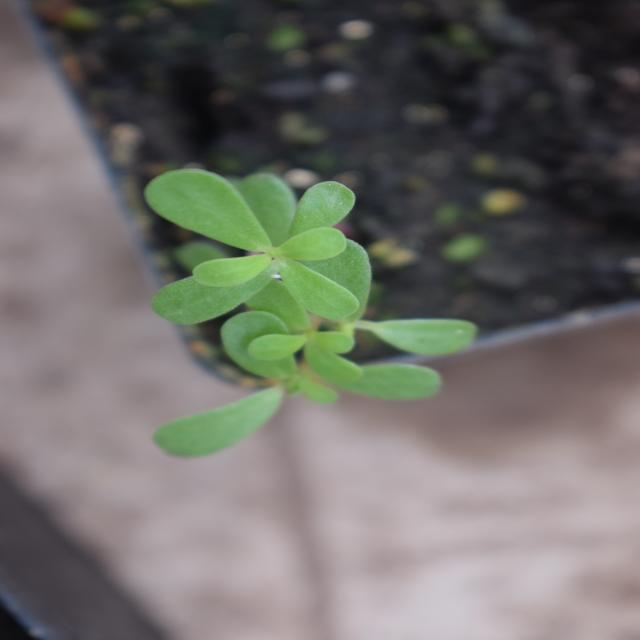purslane: (155, 165, 461, 511)
